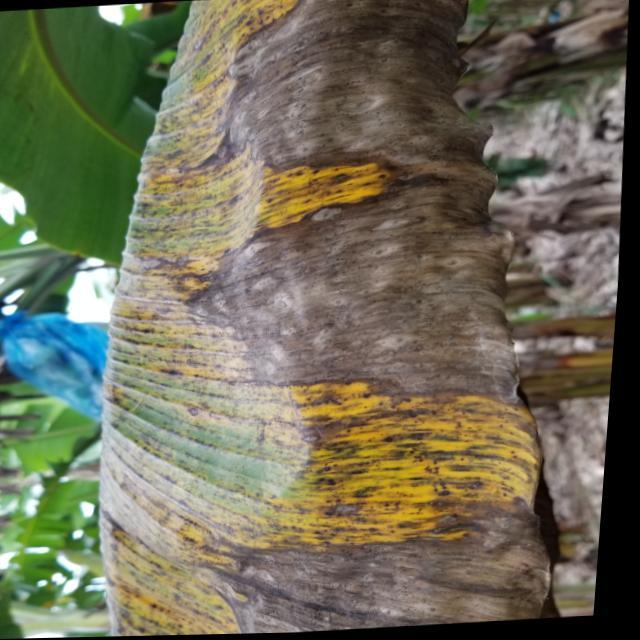Early_rust: (54, 0, 558, 640)
